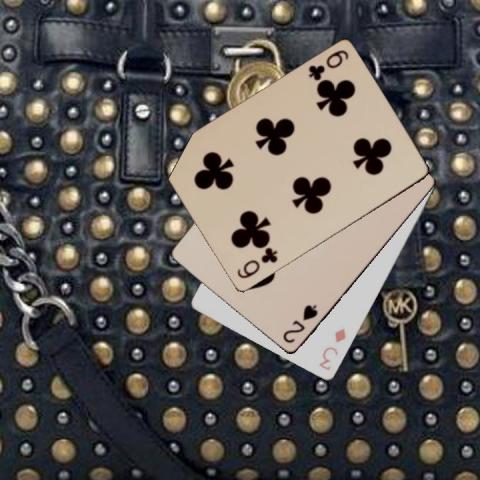2s: (280, 302, 319, 345)
3d: (316, 325, 347, 372)
6c: (234, 244, 280, 280), (305, 47, 350, 83)
